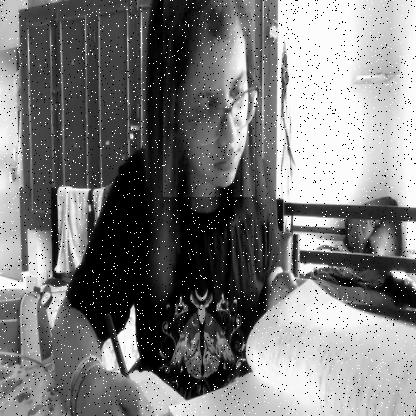Distracted: (163, 0, 255, 197)
